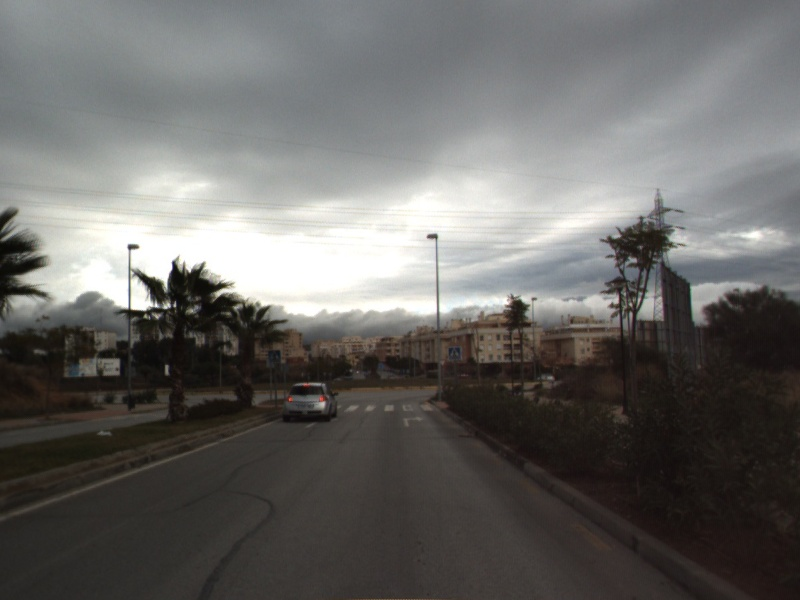RIGHT: (401, 414, 426, 429)
